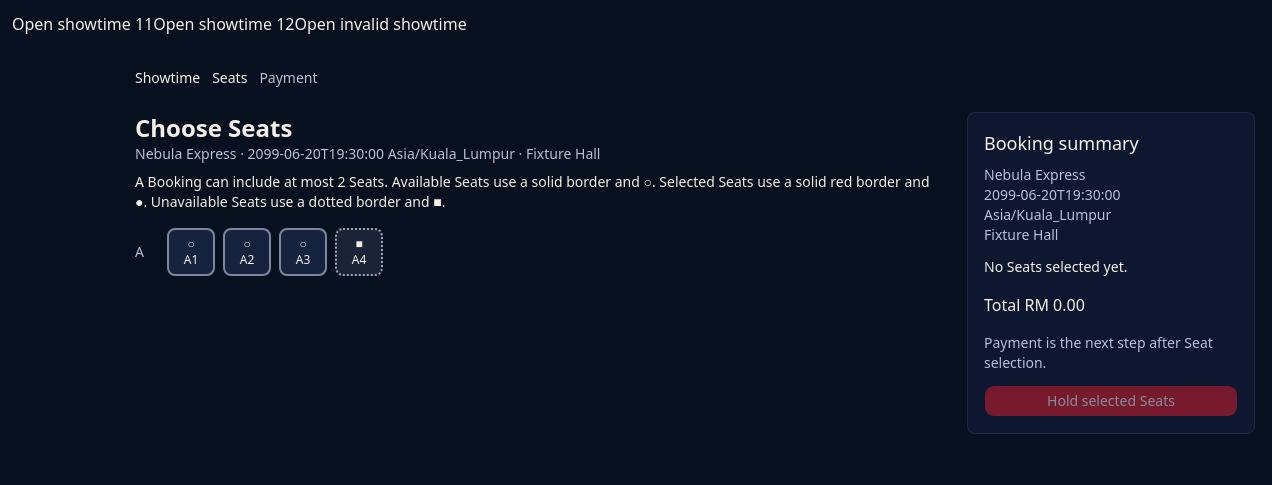
Test: SeatSelectionPage › returns to current availability when the Seat Hold expires
Click the button named "Seat A1, available" at coordinates (191, 252), box [167,228,215,276]
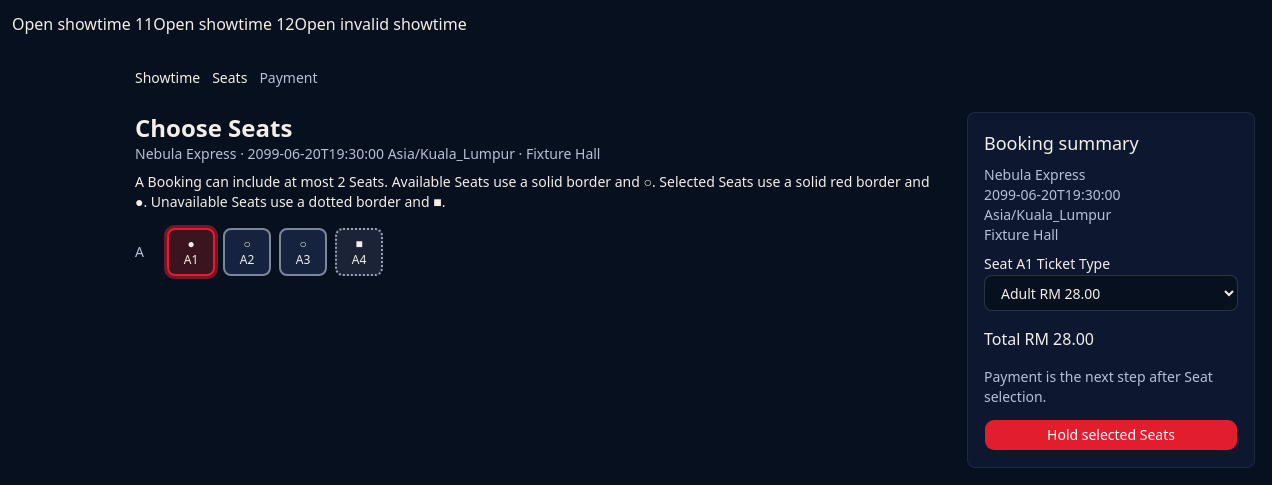
Click the button "Hold selected Seats" at coordinates (1111, 435), box [984,419,1238,451]
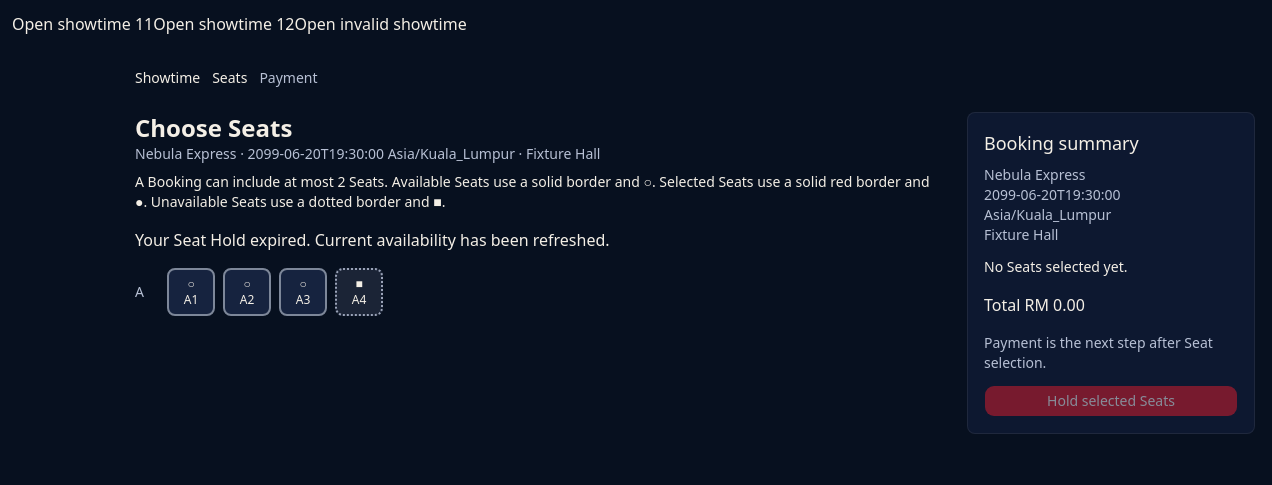
Check: the message "Your Seat Hold expired. Current availability has been refreshed." is shown, box [135,229,610,251]
